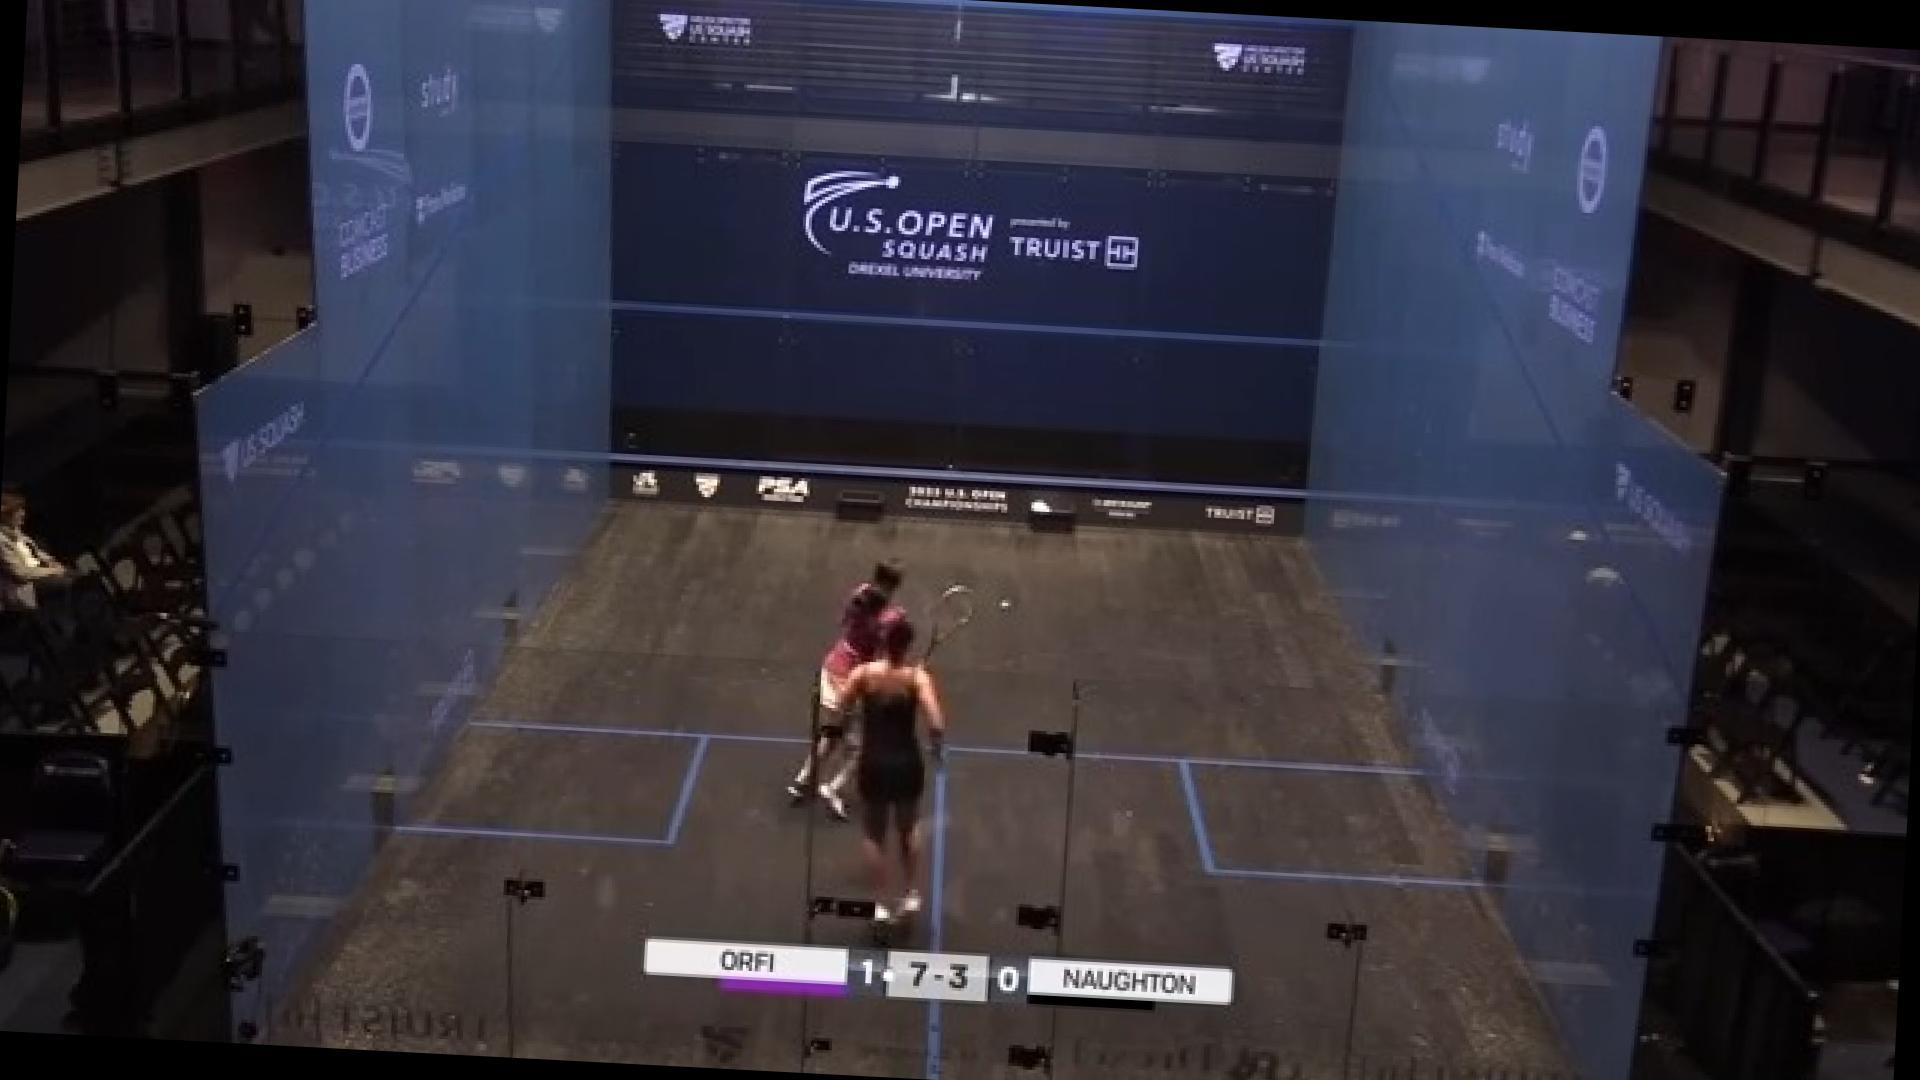Squash-Ball: (988, 588, 1018, 624)
